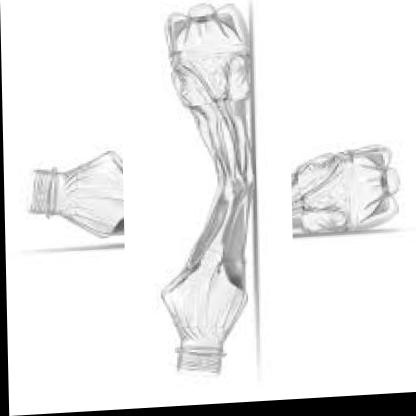trash: (161, 4, 254, 372), (291, 145, 399, 235), (31, 151, 123, 237)
